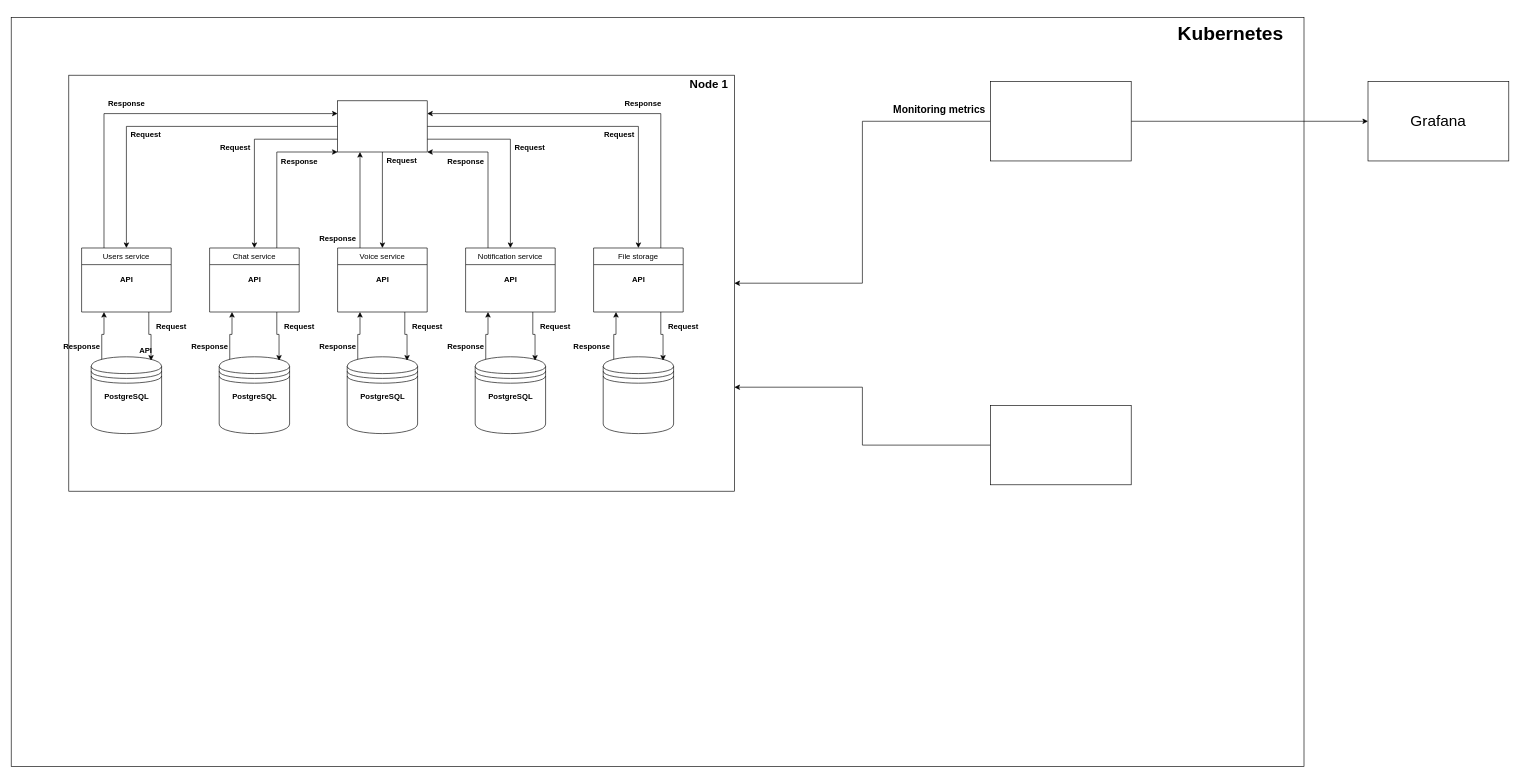
The diagram is 1520 pixels wide and 778 high, and some of its shapes have lost their labels. The centre of each missing label's shape, as x and y in pixels:
"CI/CD" belongs at [1060,445].
"Front end" belongs at [382,126].
"MongoDB" belongs at [638,395].
"Prometheus / Monitoring tools" belongs at [1060,121].
